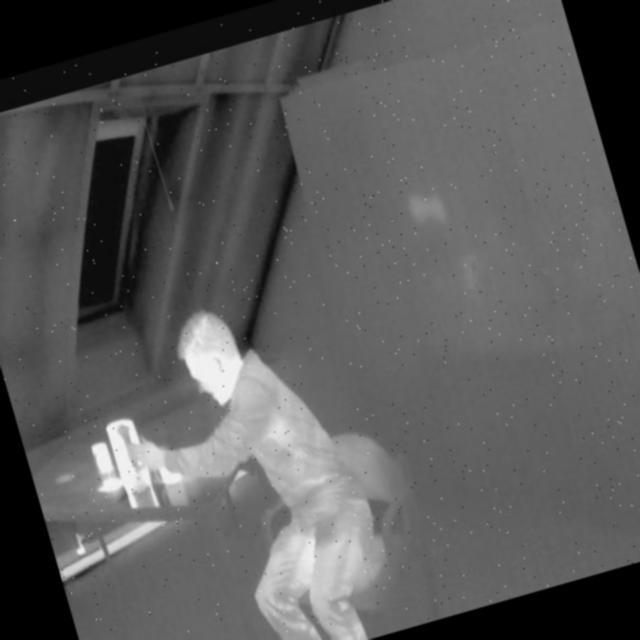person: (100, 269, 410, 640)
